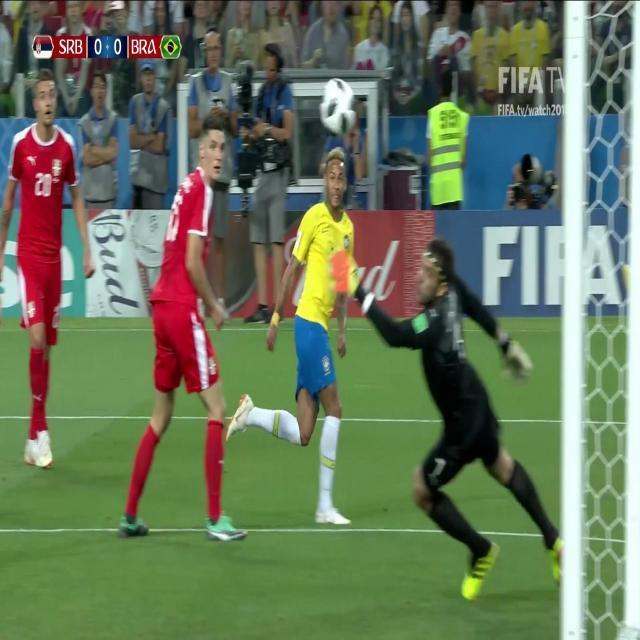ball: (316, 75, 358, 140)
goalkeeper: (348, 217, 564, 592)
player: (114, 102, 255, 551), (235, 137, 371, 534), (0, 58, 90, 472)
